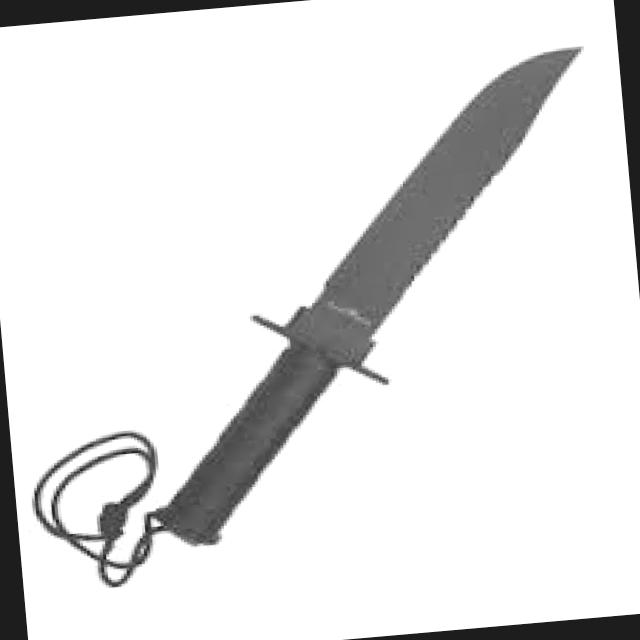knife: (32, 46, 579, 588)
